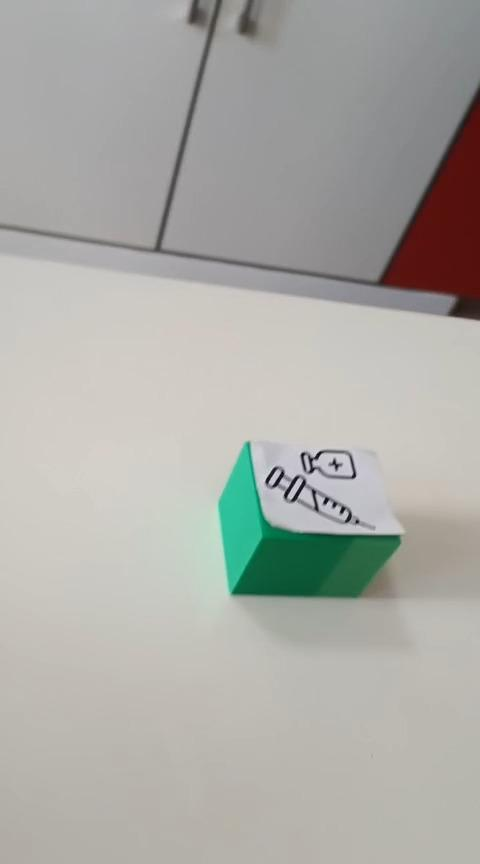antiseptic cream: (216, 438, 405, 598)
